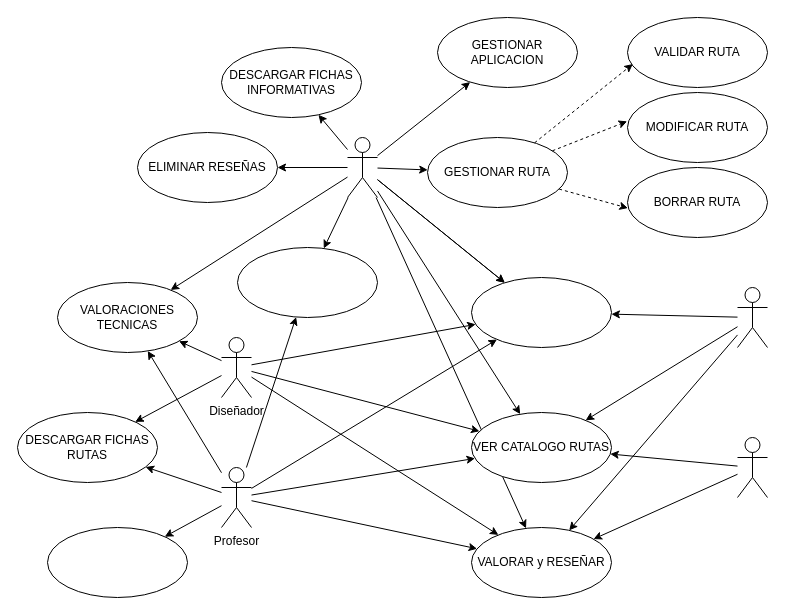
Some shapes in this 791 by 615 pixel diagram are drawn without their labels. The shapes that lost their labels are listed below. From the top down, each one's box as (x1, y1, x2, y2) in pixels, then its label:
(346, 136, 378, 198): Admin
(236, 246, 378, 318): GESTIONAR CALENDARIO
(470, 276, 612, 348): CREAR RUTA
(736, 286, 768, 348): Alumno
(736, 436, 768, 498): Invitado
(46, 526, 188, 598): CREAR CALENDARIO
